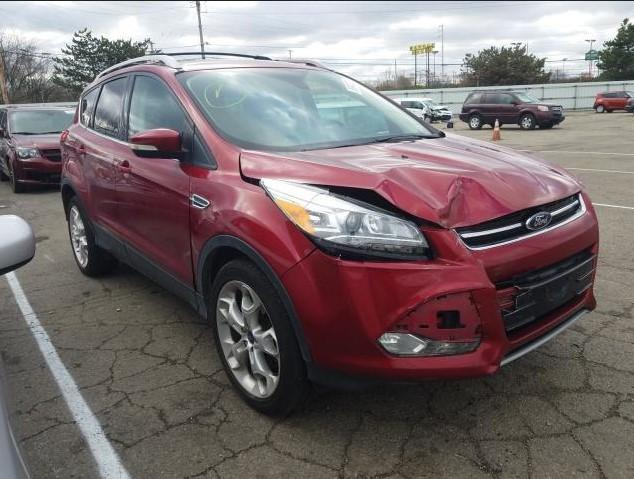Back-door: (75, 71, 132, 240)
Back-wheel: (68, 196, 116, 276)
Back-window: (95, 77, 127, 138), (80, 87, 98, 127)
Fender: (190, 139, 316, 296)
Front-bumper: (275, 191, 599, 391)
Front-door: (114, 71, 194, 293)
Front-wheel: (210, 257, 316, 415)
Front-window: (128, 76, 185, 137)
Grille: (455, 192, 586, 251)
Headlight: (261, 178, 432, 261)
Hood: (240, 132, 584, 228)
Mirror: (130, 128, 193, 163)
Quarter-panel: (61, 121, 93, 223)
Rocker-panel: (90, 223, 207, 319)
Roof: (81, 52, 330, 93)
Tail-light: (60, 129, 69, 146)
Windshield: (177, 68, 432, 151)
